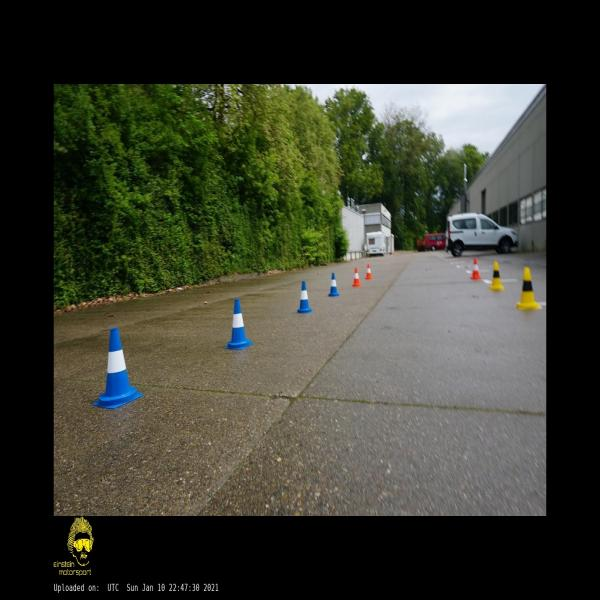blue_cone: (92, 327, 144, 408), (224, 299, 254, 349), (296, 280, 312, 312), (328, 272, 339, 296)
orange_cone: (470, 258, 481, 280), (352, 268, 361, 286), (365, 264, 372, 280)
yellow_cone: (515, 266, 541, 310), (489, 261, 504, 290)
